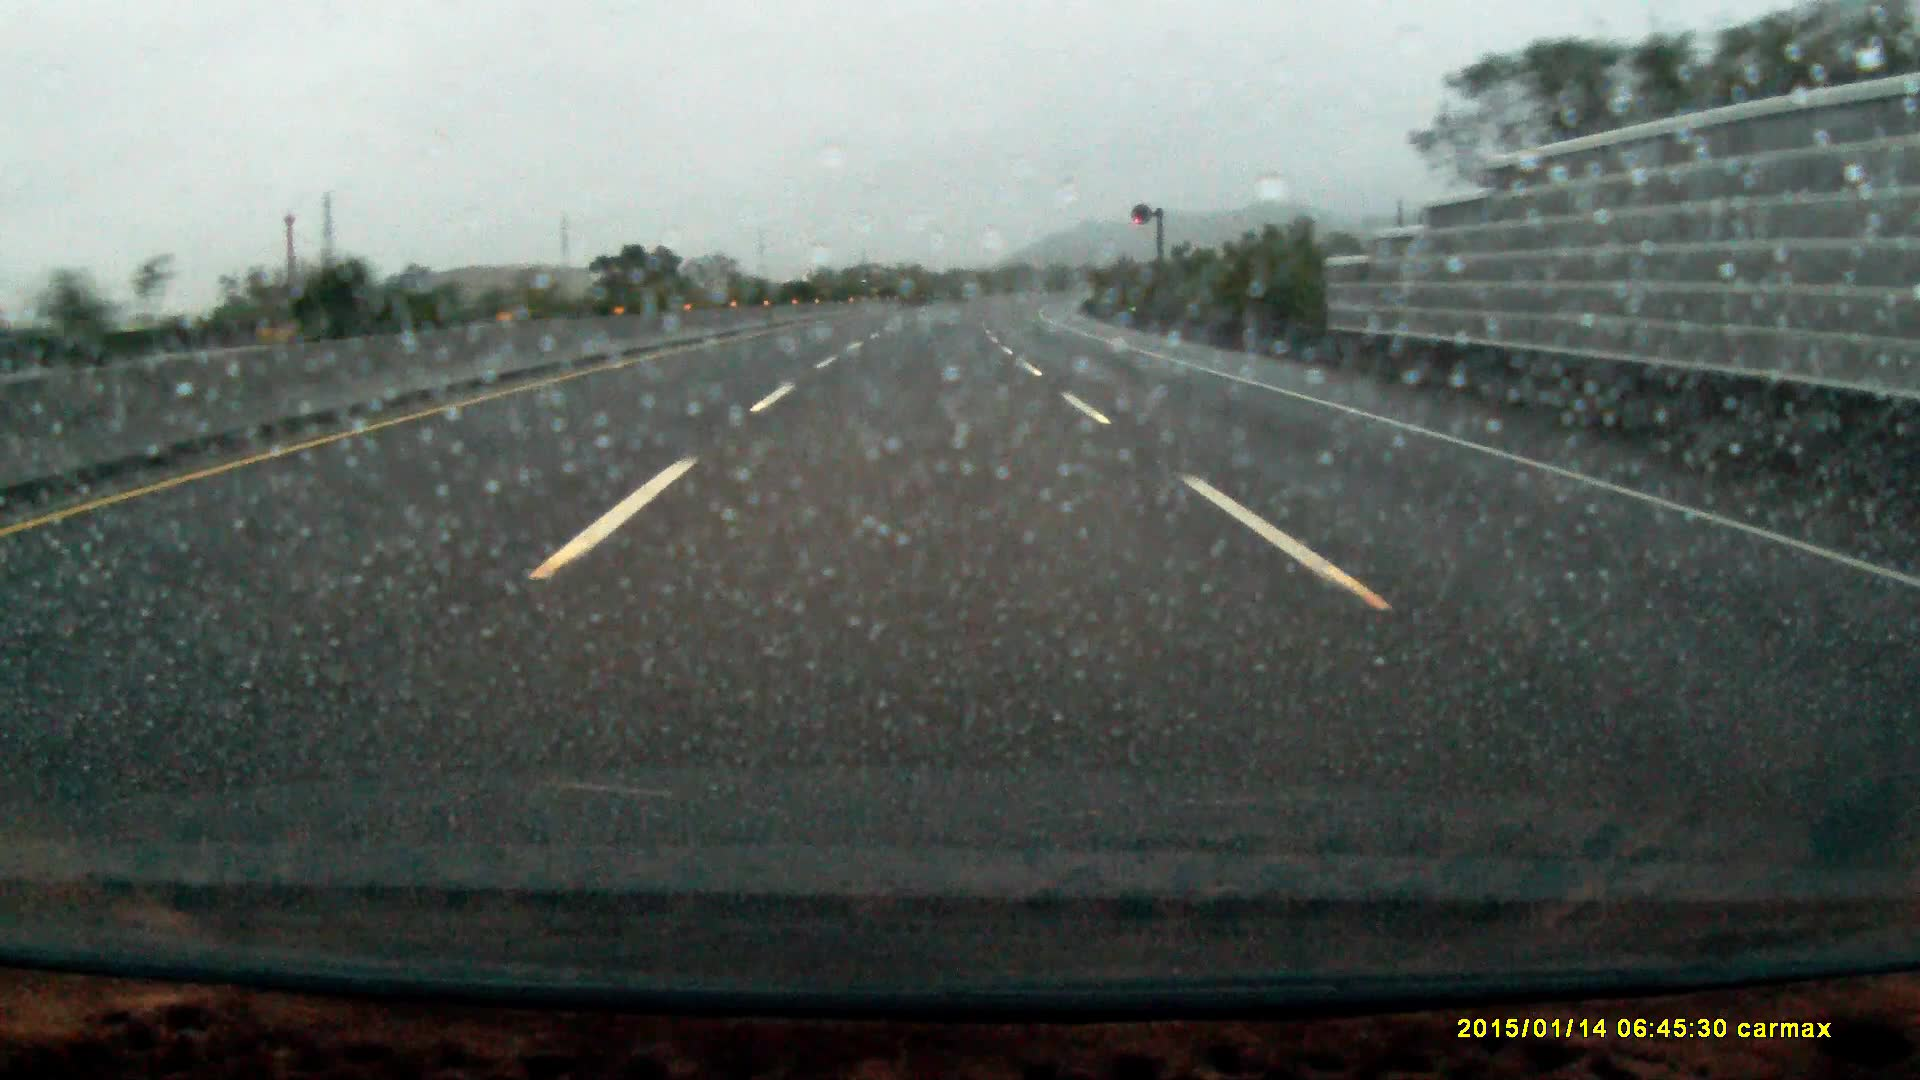vehicle: (851, 269, 893, 307)
